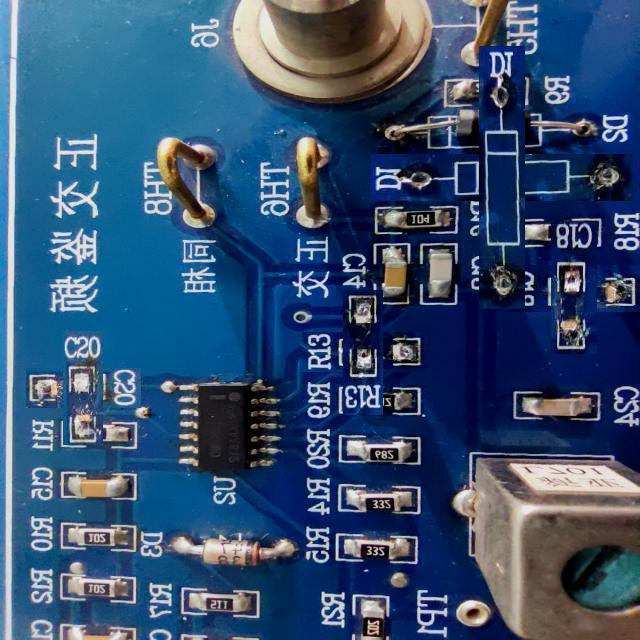miss_welding: (424, 100, 579, 255), (529, 244, 619, 333), (322, 311, 405, 394), (45, 349, 122, 427)
